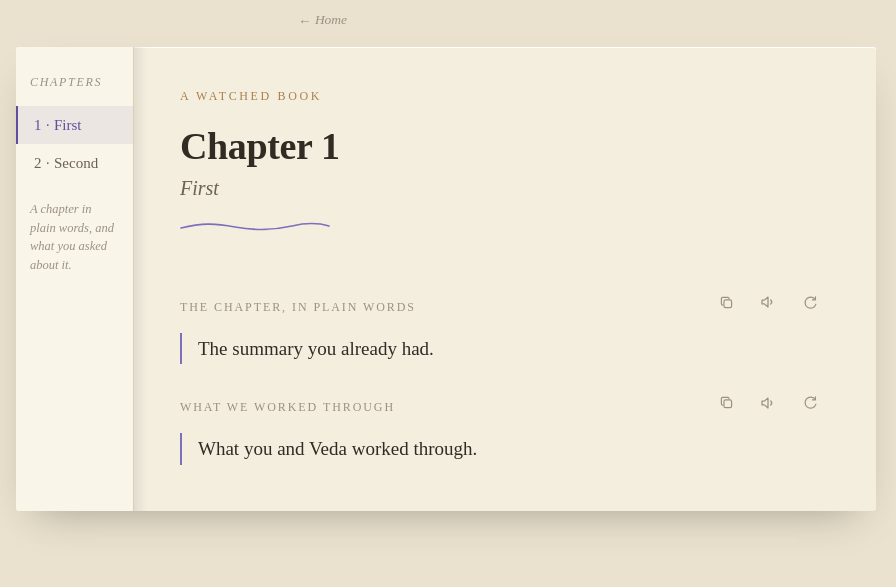
Test: watching a summary being written › leaves the failure behind when the reader moves on
Click the button named "Redo the chapter summary" at (810, 302), box x1=790 y1=282 x2=830 y2=322
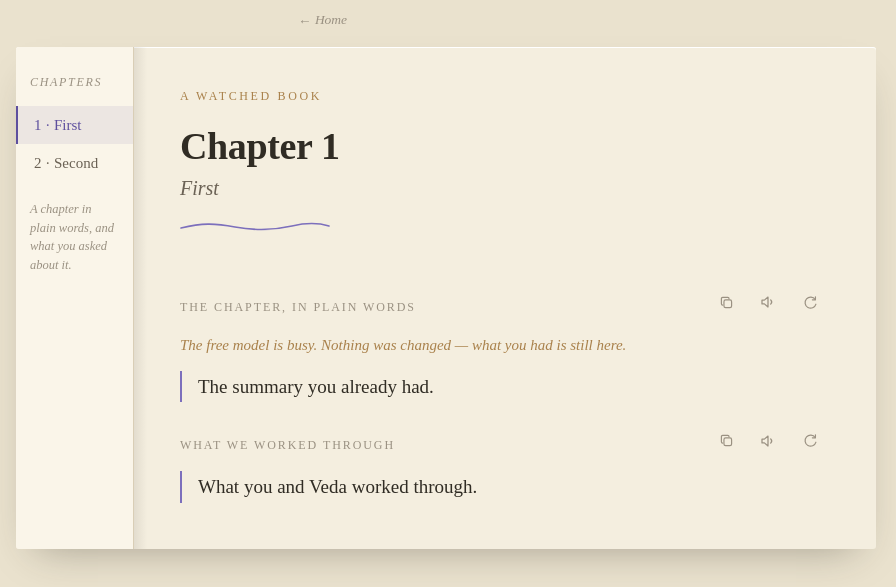
Now the text "The free model is busy. Nothing was changed — what you had is still here." is shown, box x1=180 y1=337 x2=626 y2=353
Click the button "2 · Second" at (74, 163), box x1=16 y1=144 x2=133 y2=182
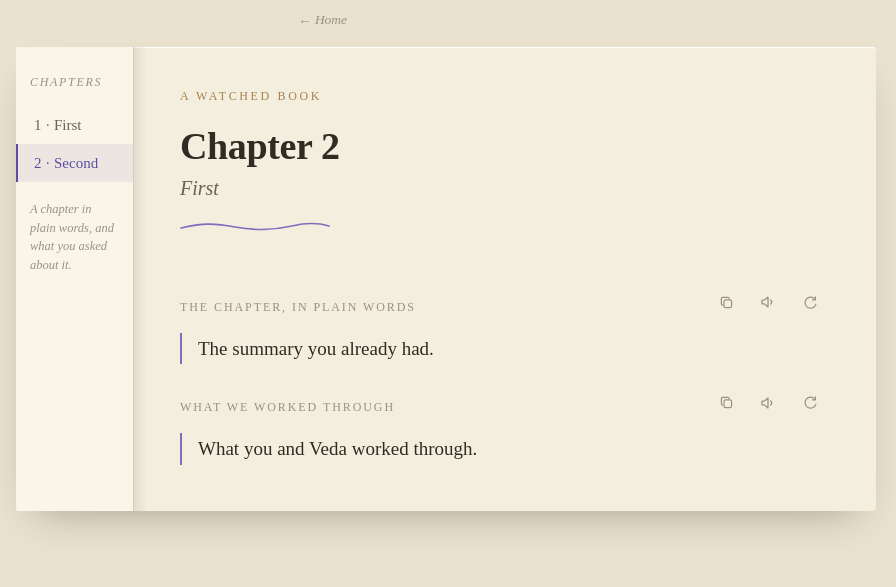
Now the text "The free model is busy" is gone
